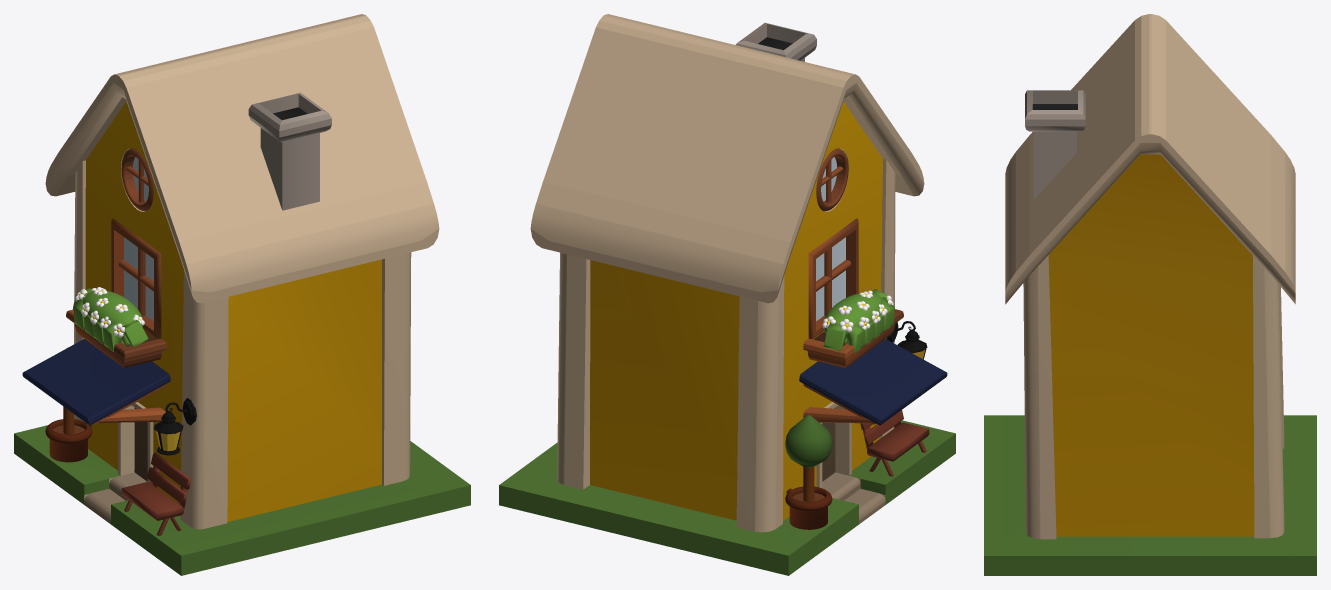
The model's file is tatliş sarı ev.fbx.
3 views of the same model, side by side, from view 1: azimuth 30°, elevation 25°; view 2: azimuth 150°, elevation 25°; view 3: azimuth 270°, elevation 25° (orthographic).
Parts seen in each view (by area): view 1: Plane.001; view 2: Plane.001; view 3: Plane.001.
Part boxes in pixels (left/top/right/bottom): Plane.001: left=14, top=14, right=470, bottom=575; Plane.001: left=499, top=14, right=955, bottom=575; Plane.001: left=984, top=14, right=1316, bottom=575.
Bounding box in the file's own units: 316 × 394 × 276.
Materials: 1 (1 with a texture image).
